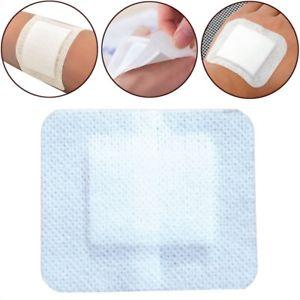bandage: (40, 107, 259, 292), (206, 18, 288, 88), (14, 14, 80, 91), (107, 29, 197, 80)
